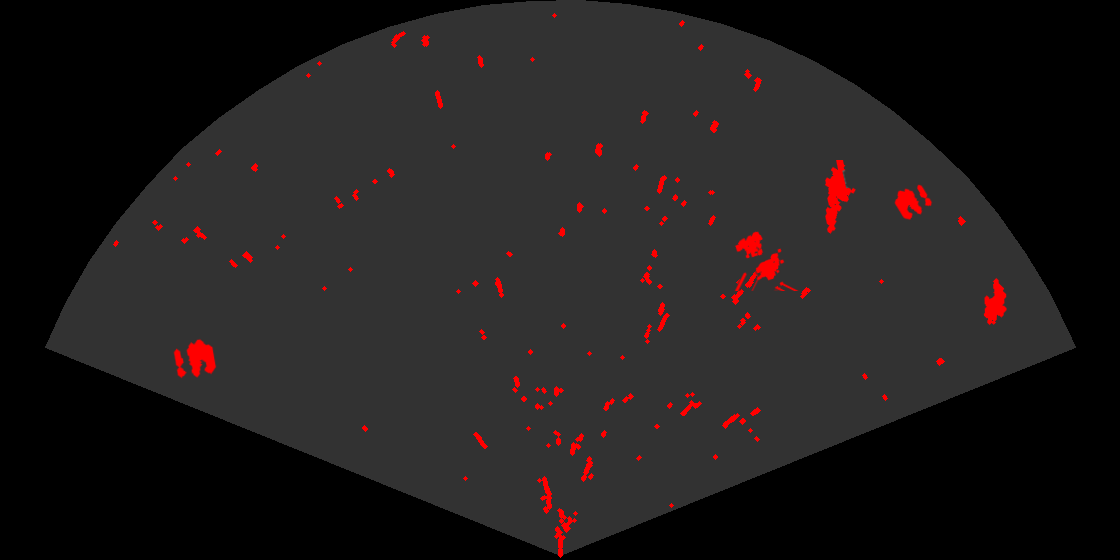AUV: (982, 276, 1008, 327)
ball: (172, 337, 218, 380), (893, 183, 934, 222)
cage: (733, 230, 800, 291)
frogman: (824, 160, 857, 235)
